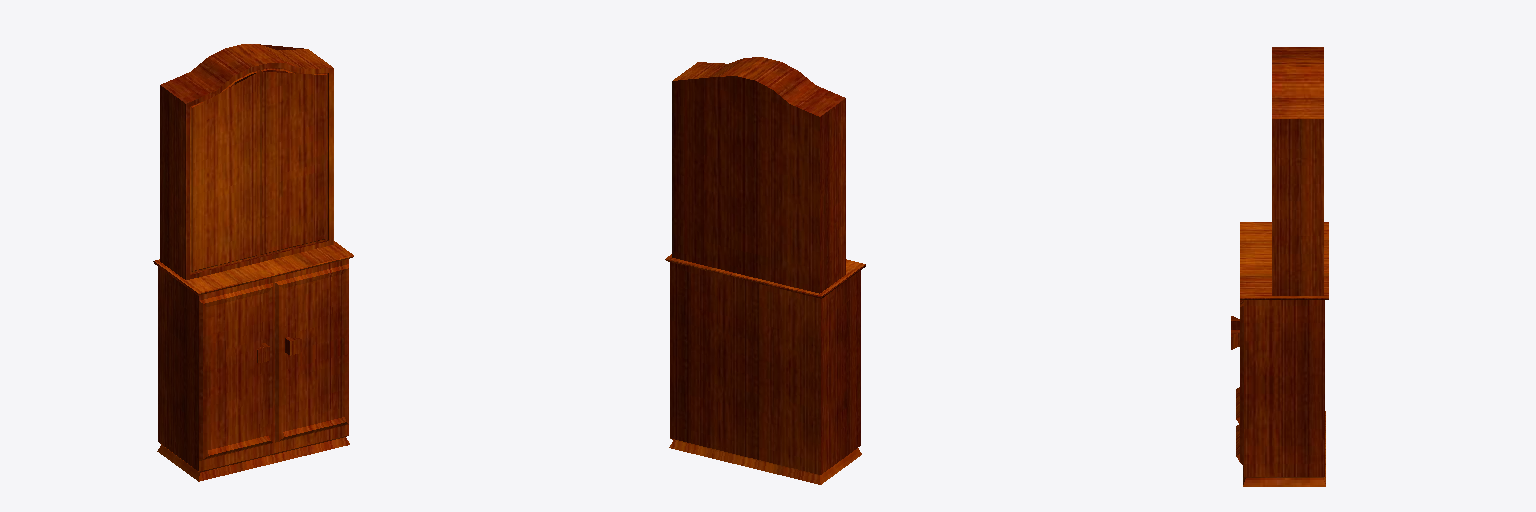
3 renders of one model, left to right at view 1: azimuth 30°, elevation 25°; view 2: azimuth 150°, elevation 25°; view 3: azimuth 270°, elevation 25°, orthographic.
Visible parts, largest first — view 1: Mesh; view 2: Mesh; view 3: Mesh.
Boxes of the visible parts, <box> form: Mesh: <box>153,44,353,481</box>; Mesh: <box>665,57,865,484</box>; Mesh: <box>1231,47,1328,486</box>.
Size of the model in its own units: 0.7156 by 1.69 by 0.3878.
Materials: 3 (1 with a texture image).